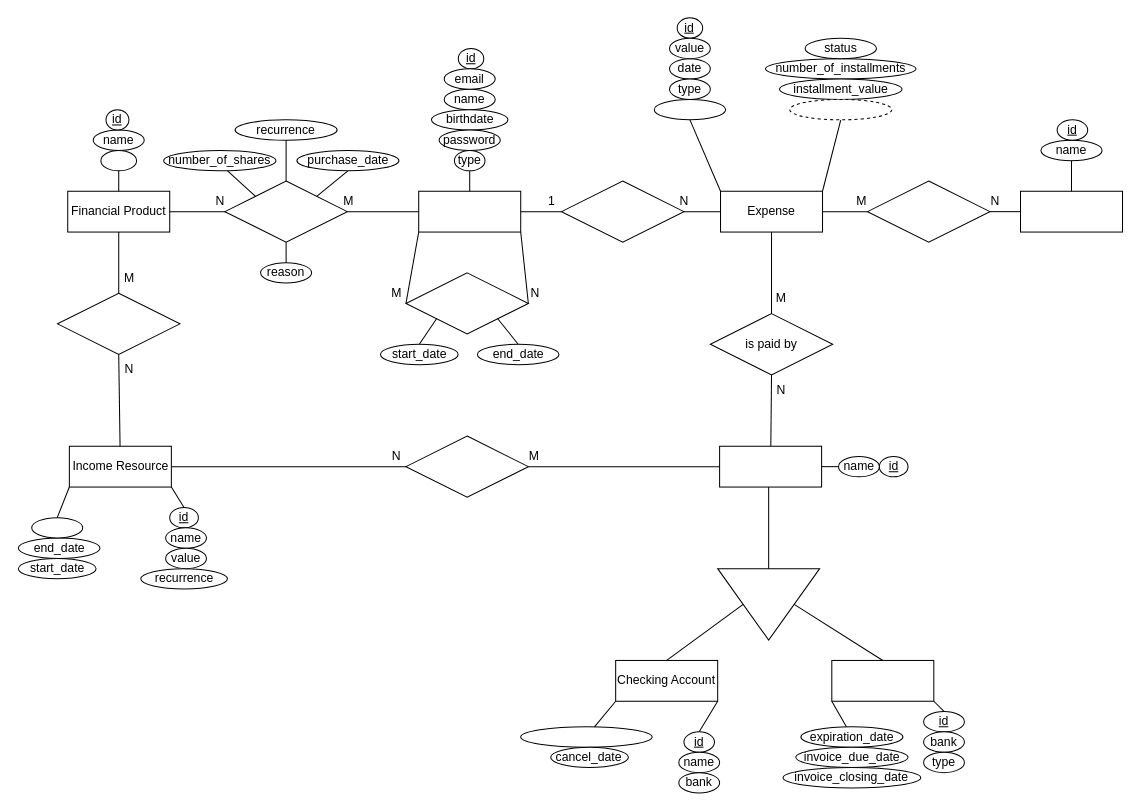
This 1140x811 diagram has some shape labels left out. Here are the shapes that lost their labels. From the top down, the box of each, then its label:
(653, 98, 726, 120): description
(789, 98, 892, 120): installments_left
(100, 149, 137, 171): price
(224, 180, 347, 242): uses to save
(418, 190, 521, 232): Saver
(560, 180, 684, 242): has
(866, 180, 990, 242): is of
(1019, 190, 1123, 232): Category
(57, 292, 180, 354): is used to save
(405, 272, 528, 334): depends on
(405, 435, 528, 497): is financed by
(719, 445, 822, 487): Payment Method
(31, 517, 83, 538): payday
(717, 568, 820, 640): is
(831, 659, 934, 701): Credit Card
(520, 726, 652, 747): registration_date
